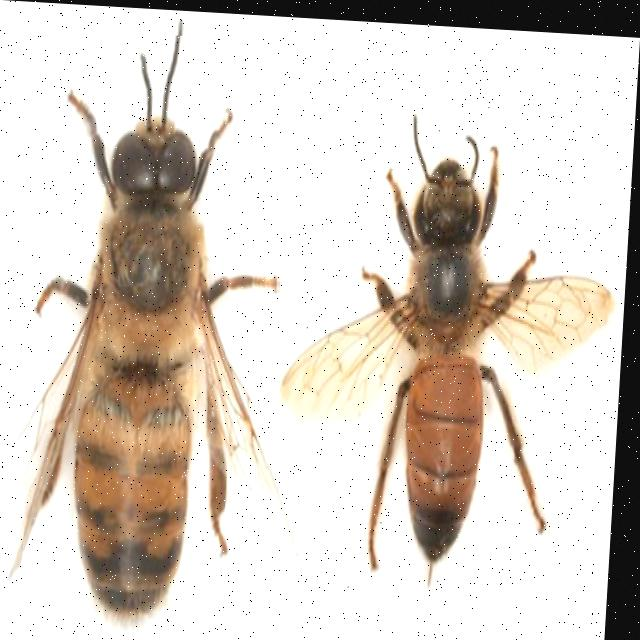Apis-mellifera-scutellata: (287, 86, 589, 640), (26, 28, 294, 640)
